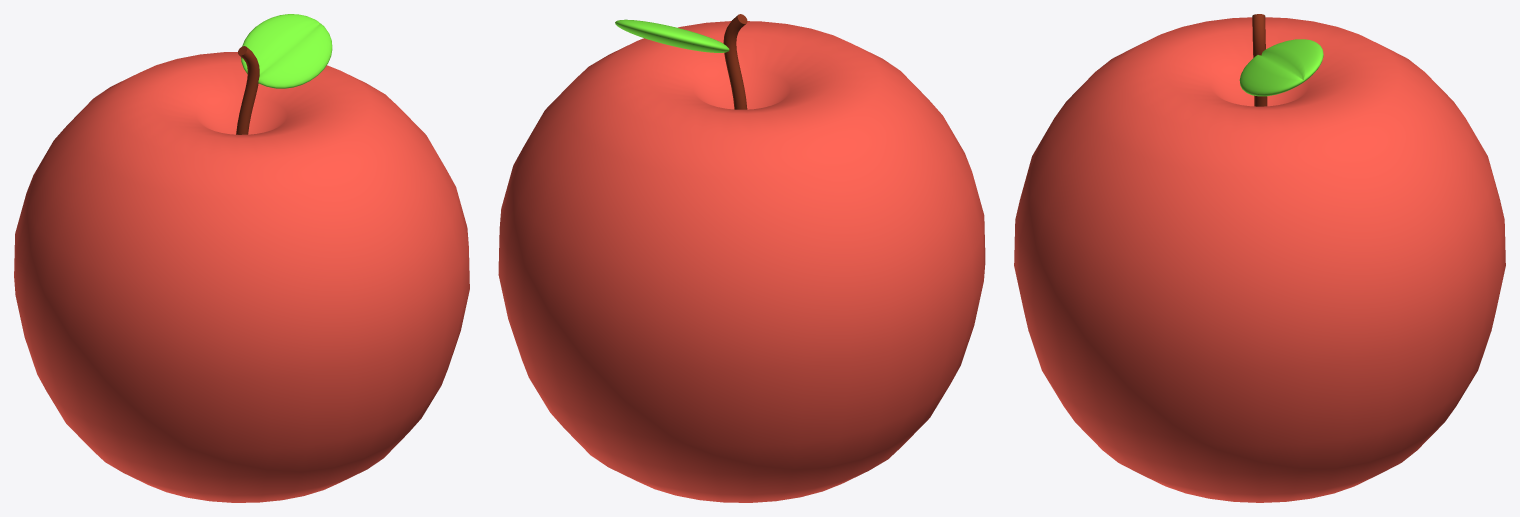
The model's file is apple.gltf.
The picture shows the model from 3 angles, left to right: view 1: azimuth 30°, elevation 25°; view 2: azimuth 150°, elevation 25°; view 3: azimuth 270°, elevation 25°; orthographic projection. The views are drawn at different scales.
Parts seen in each view (by area): view 1: Sphere, Sphere.001, BezierCurve; view 2: Sphere, Sphere.001, BezierCurve; view 3: Sphere, Sphere.001, BezierCurve.
Boxes of the visible parts, left/top/right/bottom form: Sphere: left=14, top=52, right=469, bottom=502; Sphere.001: left=241, top=14, right=332, bottom=88; BezierCurve: left=236, top=46, right=259, bottom=134; Sphere: left=498, top=21, right=985, bottom=502; Sphere.001: left=615, top=19, right=729, bottom=52; BezierCurve: left=723, top=14, right=747, bottom=109; Sphere: left=1014, top=17, right=1505, bottom=502; Sphere.001: left=1239, top=39, right=1323, bottom=96; BezierCurve: left=1252, top=14, right=1267, bottom=106.
Size of the model in its own units: 1.95 by 1.93 by 1.95.
